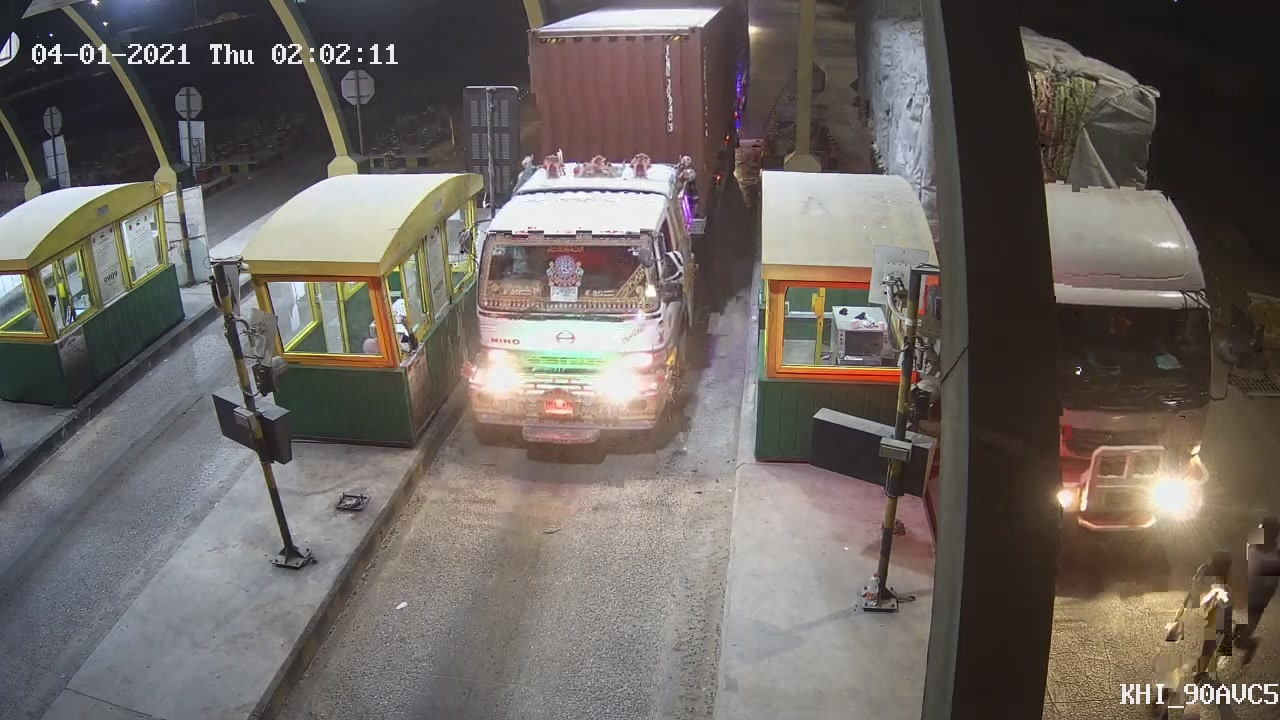F5: (438, 7, 743, 473)
